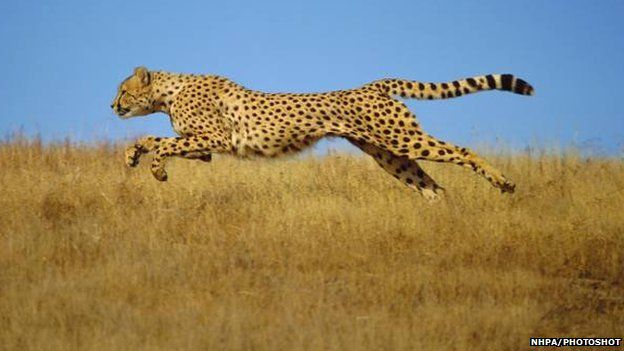Cheetah: (99, 63, 534, 200)
